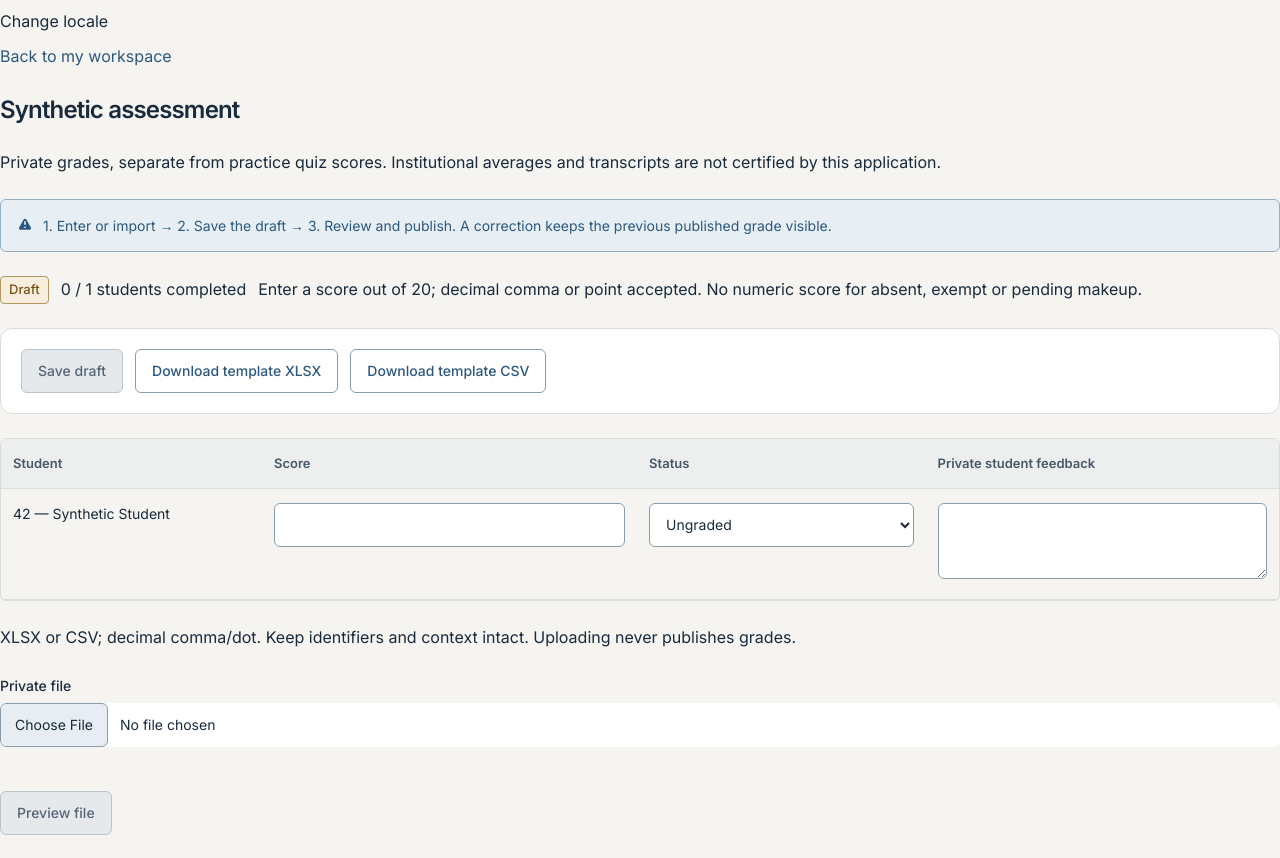
Test: institutional grade workflow safety › explains out-of-range scores and blocks save without losing the entered value
The image size is (1280, 858).
In the field named "Score Synthetic Student 42": [450, 525] box [274,503,625,547], type "21"
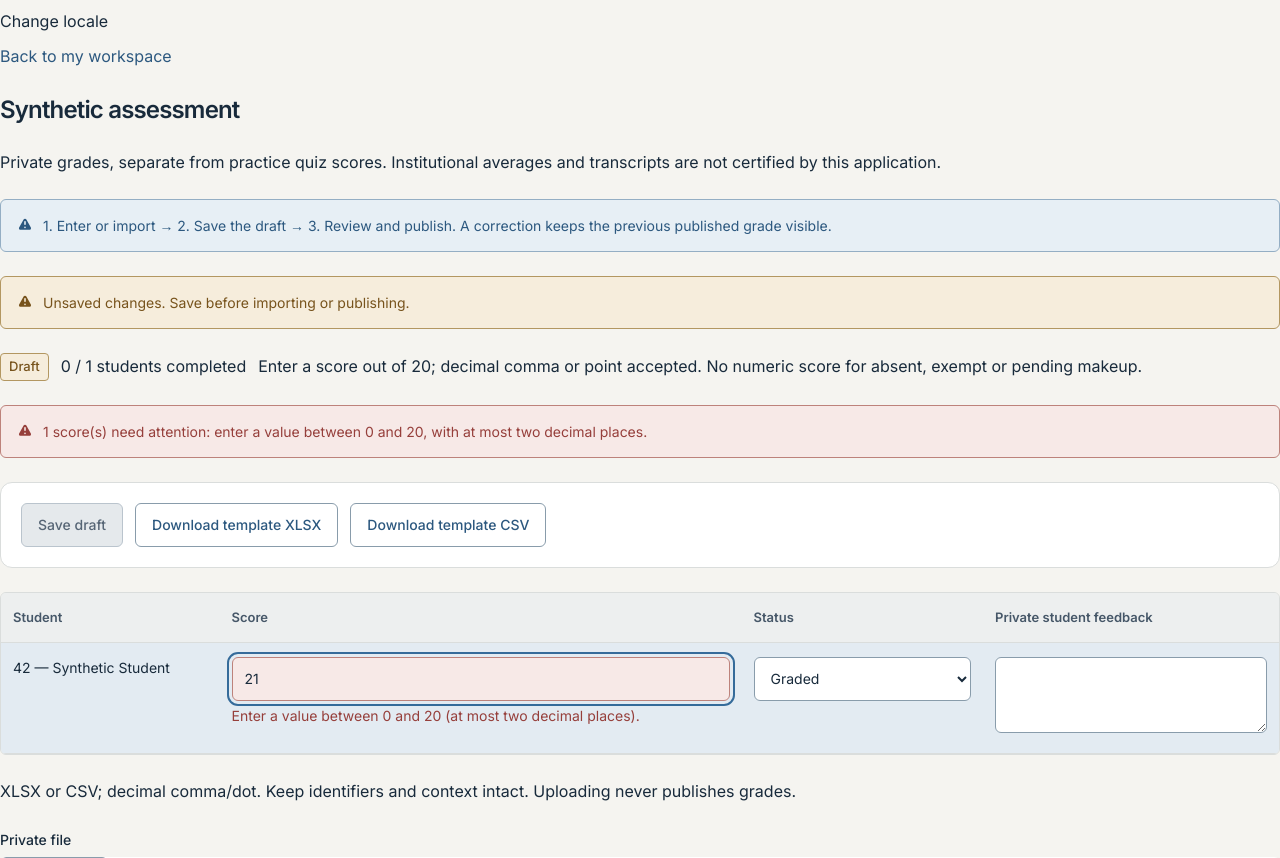
Expected: the button "Save draft" is disabled, [21,503,123,547]
Expected: the text "Enter a value between 0 and 20 (at most two decimal places)." is shown, [232,707,640,724]
